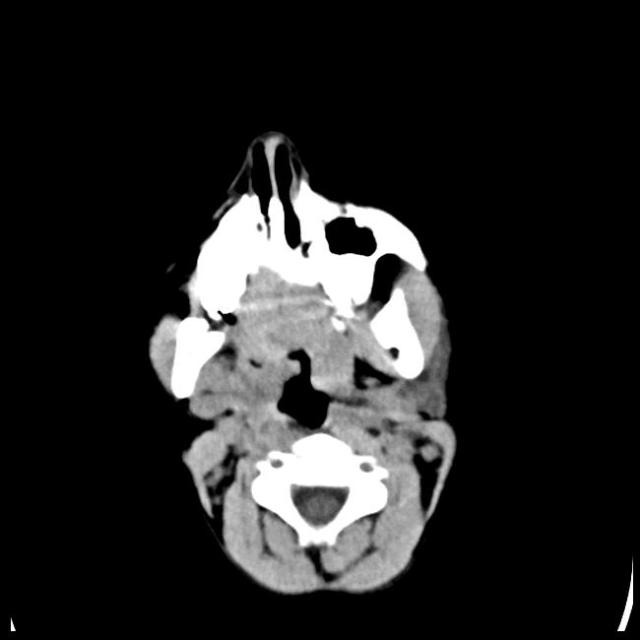lesion: (142, 126, 464, 601)
